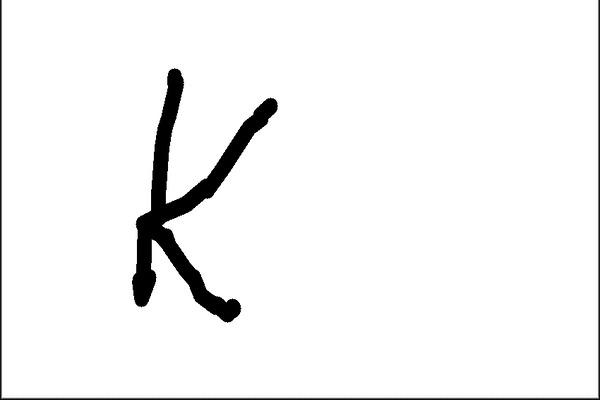K: (127, 61, 284, 330)
